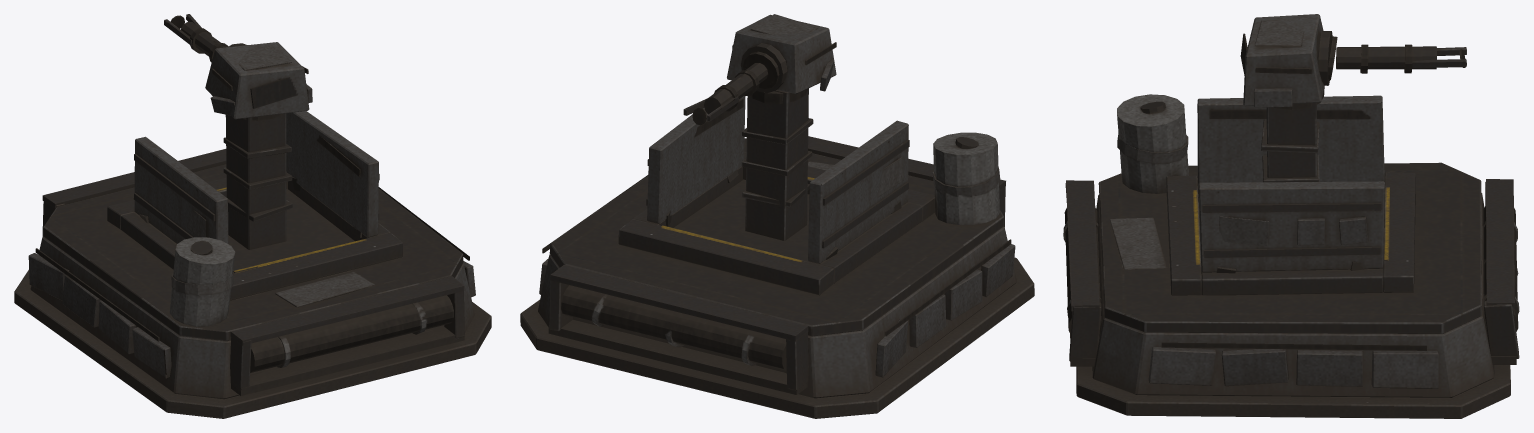
The model's file is chs_inferno_wreck.fbx.
The picture shows the model from 3 angles, left to right: view 1: azimuth 30°, elevation 25°; view 2: azimuth 150°, elevation 25°; view 3: azimuth 270°, elevation 25°; orthographic projection. The views are drawn at different scales.
Parts seen in each view (by area): view 1: base_bar, turret_bar, shell_bar, shellR_bar, shellL_bar, barrel_bar; view 2: base_bar, turret_bar, shell_bar, shellL_bar, shellR_bar, barrel_bar; view 3: base_bar, shellR_bar, shell_bar, turret_bar, shellL_bar, barrel_bar.
Part boxes in pixels (x1,y1,x2,y2): base_bar: [14, 149, 491, 418]; turret_bar: [205, 42, 312, 249]; shell_bar: [107, 171, 402, 300]; shellR_bar: [286, 111, 379, 237]; shellL_bar: [133, 136, 228, 243]; barrel_bar: [164, 14, 228, 62]; base_bar: [520, 132, 1034, 418]; turret_bar: [727, 14, 836, 240]; shell_bar: [618, 151, 935, 295]; shellL_bar: [808, 120, 909, 263]; shellR_bar: [646, 95, 745, 223]; barrel_bar: [683, 63, 767, 125]; base_bar: [1063, 94, 1519, 418]; shellR_bar: [1198, 181, 1384, 272]; shell_bar: [1166, 172, 1415, 295]; turret_bar: [1240, 14, 1337, 182]; shellL_bar: [1197, 95, 1384, 186]; barrel_bar: [1336, 44, 1466, 73].
Bounding box in the file's own units: 1412 × 1269 × 1481.
2 materials, 2 textured.
